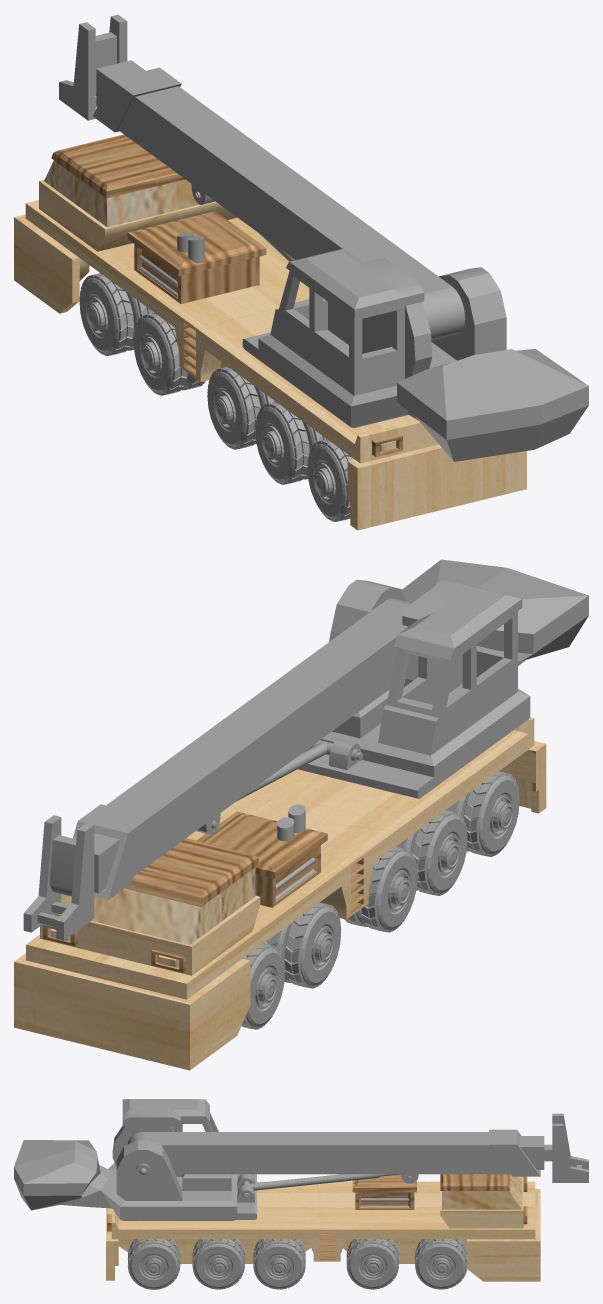
File: Crane 0.1.5.fbx
The picture shows the model from 3 angles, top to bottom: view 1: azimuth 30°, elevation 25°; view 2: azimuth 150°, elevation 25°; view 3: azimuth 270°, elevation 25°; orthographic projection. The views are drawn at different scales.
Visible parts, largest first — view 1: pasted__pCube1, pCube2, pCylinder20, pCylinder56, pCylinder59, pCylinder58, pCylinder57, pCylinder60; view 2: pasted__pCube1, pCube2, pCylinder20, pCylinder57, pCylinder60, pCylinder59, pCylinder58, pCylinder56, pCylinder42; view 3: pasted__pCube1, pCylinder20, pCube2, pCylinder15, pCylinder21, pCylinder16, pCylinder17, pCylinder14, pCylinder42.
Boxes of the visible parts, x1,y1,x2,y2 form: pasted__pCube1: [14, 134, 526, 530]; pCube2: [242, 248, 588, 461]; pCylinder20: [59, 14, 465, 340]; pCylinder56: [79, 273, 153, 355]; pCylinder59: [255, 402, 326, 484]; pCylinder58: [207, 366, 275, 449]; pCylinder57: [133, 312, 205, 395]; pCylinder60: [307, 439, 354, 521]; pasted__pCube1: [14, 717, 546, 1070]; pCube2: [298, 559, 588, 798]; pCylinder20: [23, 598, 411, 940]; pCylinder57: [264, 902, 341, 988]; pCylinder60: [446, 771, 519, 856]; pCylinder59: [396, 810, 467, 895]; pCylinder58: [344, 846, 417, 932]; pCylinder56: [241, 943, 284, 1029]; pCylinder42: [237, 742, 327, 800]; pasted__pCube1: [106, 1174, 540, 1281]; pCylinder20: [127, 1113, 588, 1183]; pCube2: [14, 1099, 256, 1220]; pCylinder15: [127, 1239, 180, 1289]; pCylinder21: [346, 1239, 398, 1289]; pCylinder16: [253, 1239, 305, 1289]; pCylinder17: [192, 1239, 244, 1289]; pCylinder14: [415, 1239, 466, 1289]; pCylinder42: [246, 1174, 379, 1190].
Bounding box in the file's own units: 35.17 × 47.38 × 162.
Materials: 2 (1 with a texture image).
